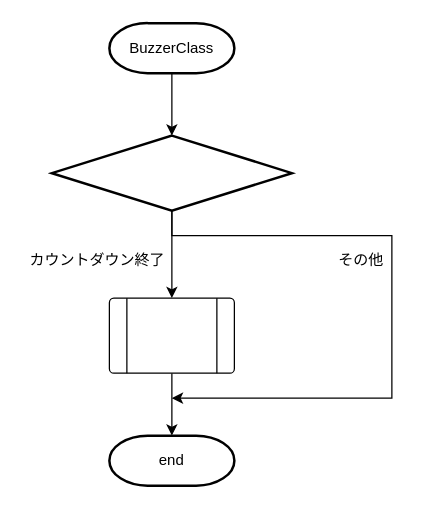
The diagram is 424 pixels wide and 508 high, and some of its shapes have lost their labels. The box of each missing label's shape, as (x1, y1, x2, y2) in pixels:
キッチンタイマー状態 は = ?: (50, 134, 292, 211)
ブザー鳴動: (108, 297, 234, 373)
